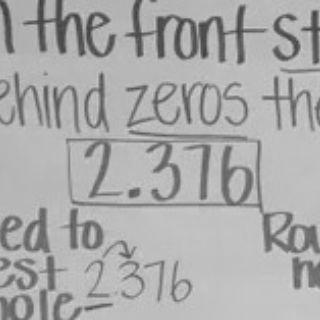.: (125, 185, 142, 199)
2: (83, 137, 123, 200), (81, 259, 112, 299)
3: (145, 140, 181, 201), (117, 259, 146, 302)
6: (218, 141, 255, 205), (170, 254, 194, 304)
7: (184, 142, 214, 201), (143, 259, 167, 304)
